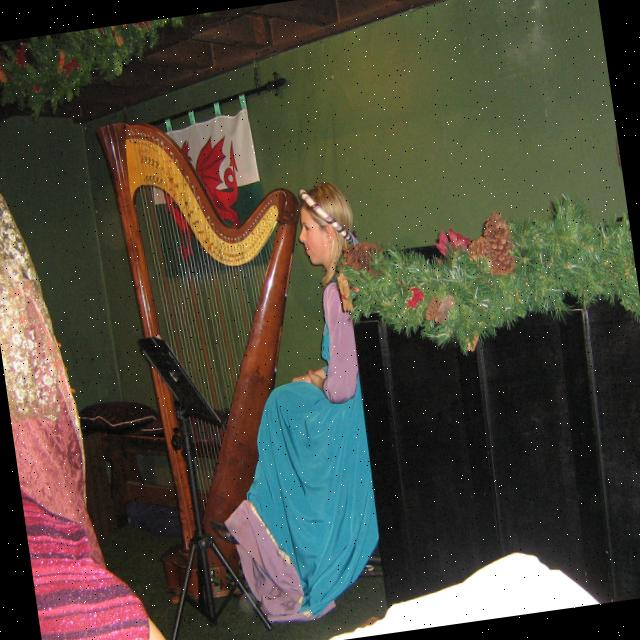harp: (96, 91, 356, 610)
